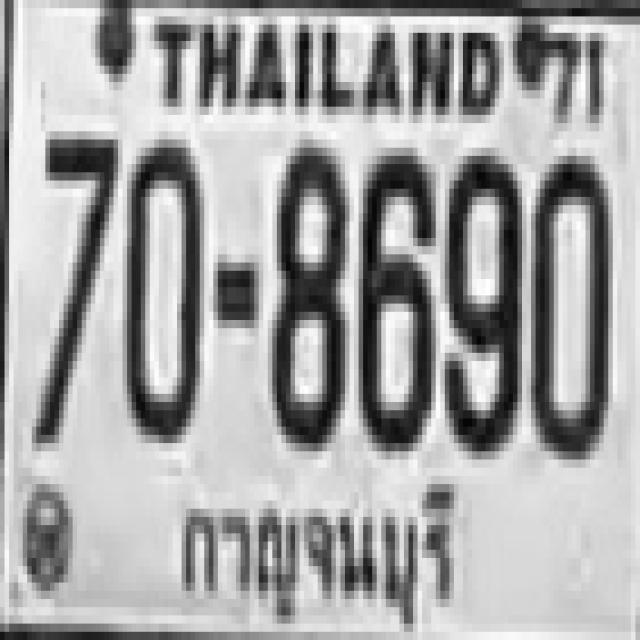0: (527, 148, 608, 451), (123, 131, 200, 435)
6: (354, 148, 431, 443)
7: (34, 127, 116, 439)
8: (268, 140, 340, 443)
9: (440, 148, 518, 451)
KRI: (171, 472, 461, 624)
